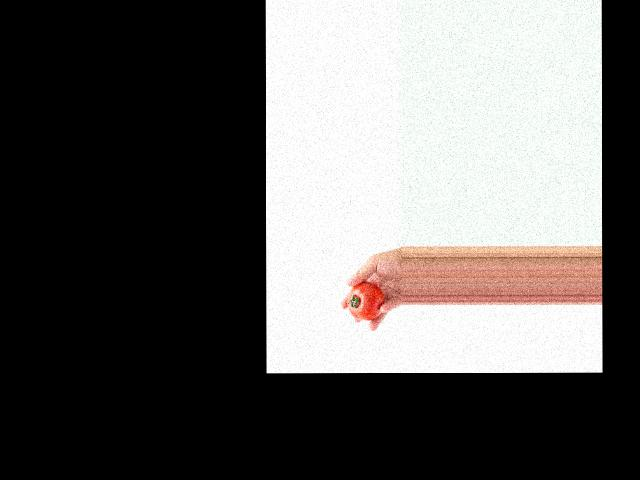tomato: (347, 282, 384, 321)
